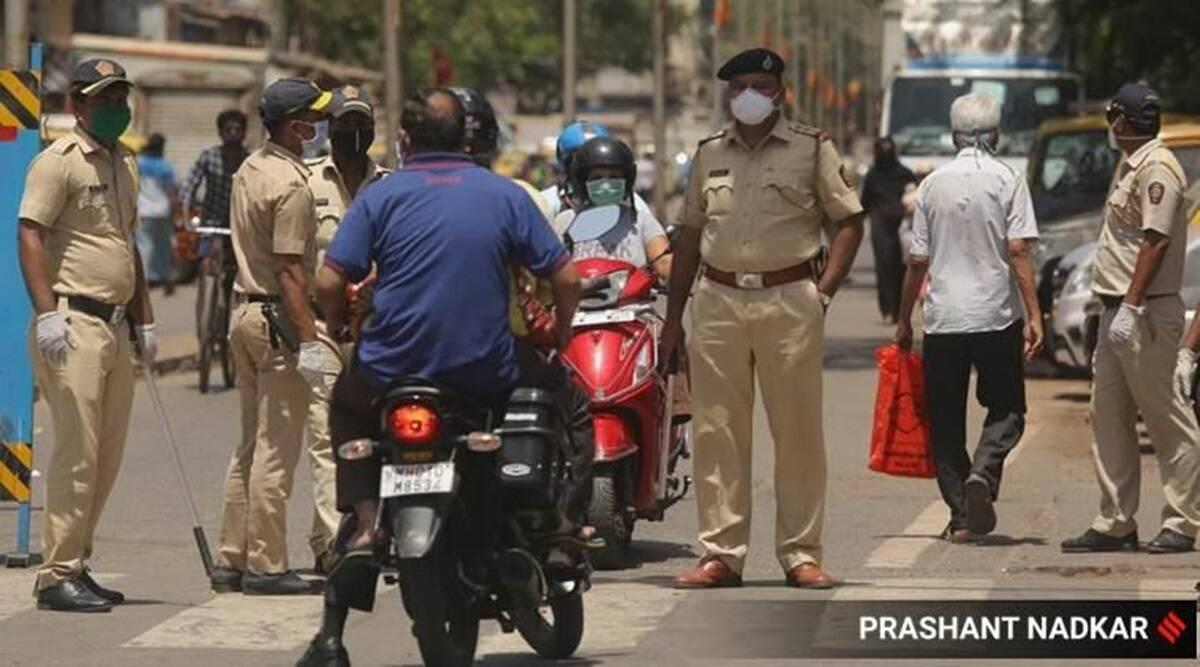Helmet: (559, 135, 636, 222)
